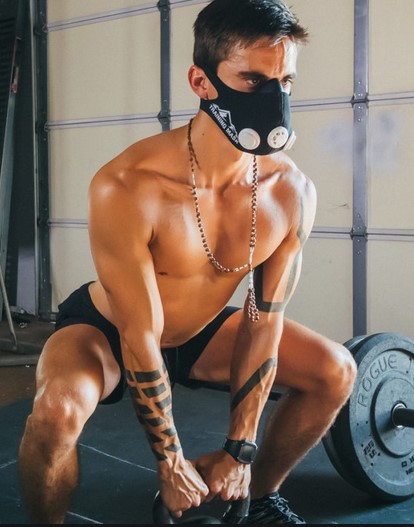face_with_mask: (190, 8, 298, 155)
